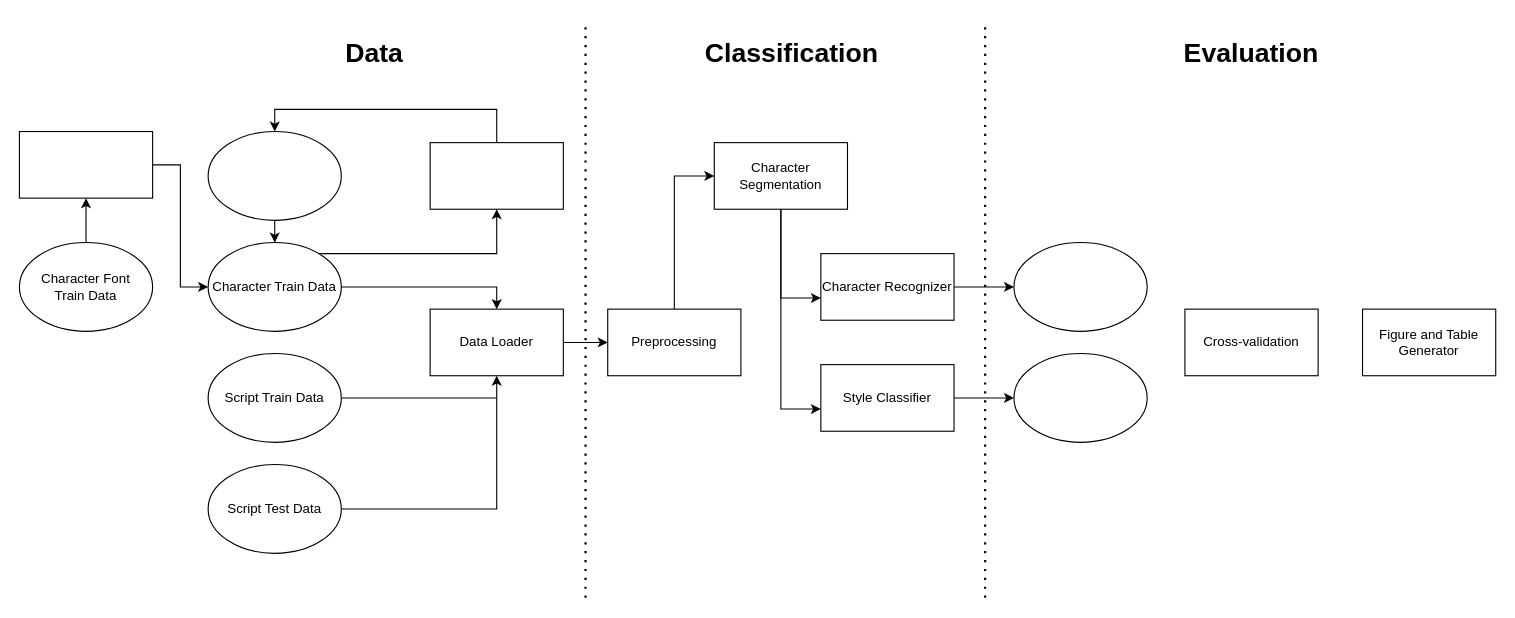
Image size: 1515x618. Some labels were removed from this diagram. Each missing label, with the centre of its shape:
"Augmented Character Train Data" goes at point 274,175.
"Data Augmentation" goes at point 496,175.
"Image Generator" goes at point 85,164.
"one Text File per Script with all Characters" goes at point 1080,286.
"one Time Period per Script" goes at point 1080,397.
